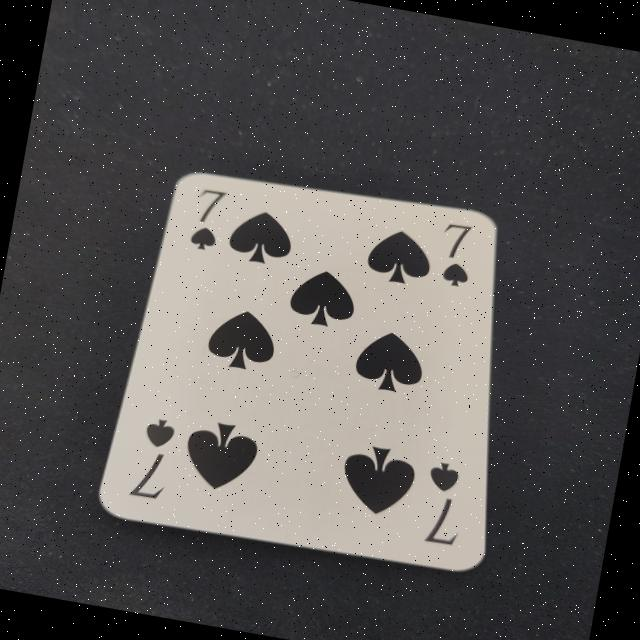7s: (111, 406, 202, 519), (404, 450, 481, 561), (428, 214, 492, 304), (176, 176, 234, 263)
